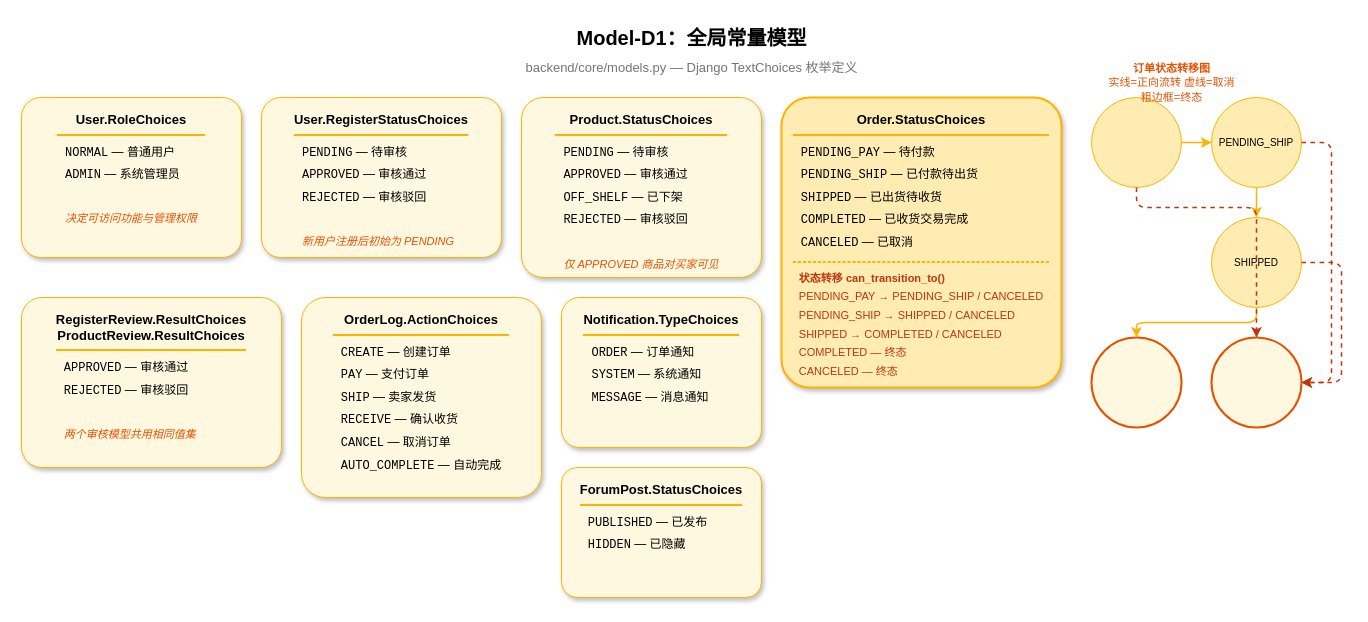
Some shapes in this 1368 by 622 pixel diagram are drawn without their labels. Here are the shapes that lost their labels. From the top down, the centre of each, then its label:
At point 1136,142: "PENDING_PAY".
At point 1136,382: "COMPLETED".
At point 1256,382: "CANCELED".
